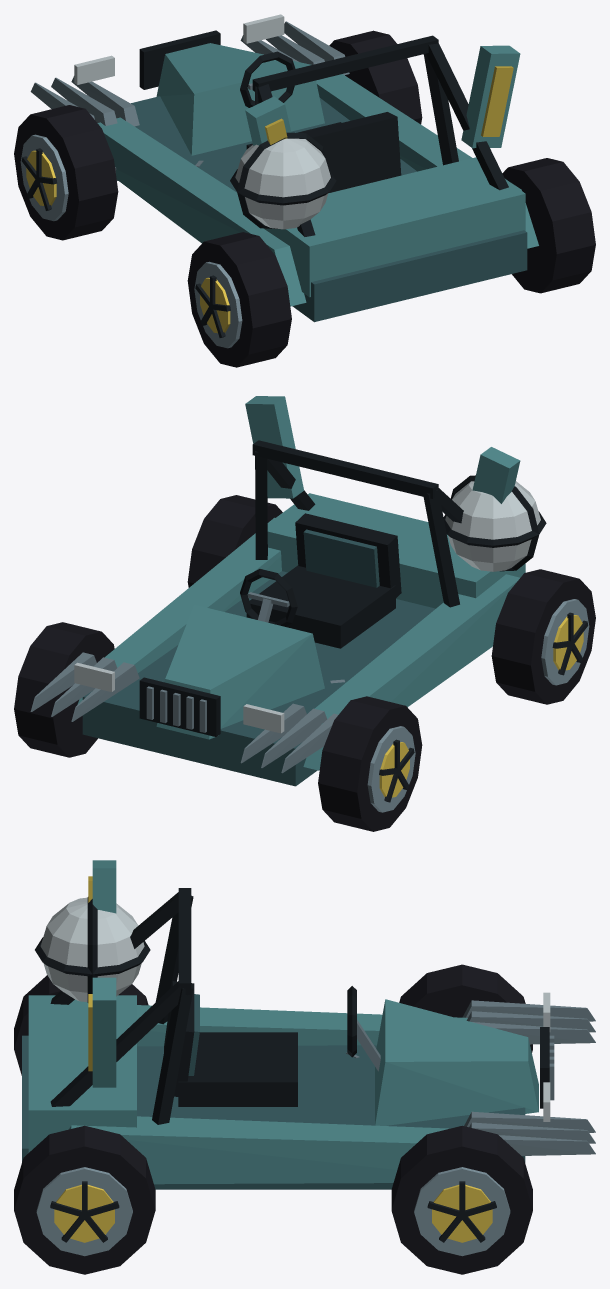
File: kart.glb
The picture shows the model from 3 angles, top to bottom: view 1: azimuth 30°, elevation 25°; view 2: azimuth 150°, elevation 25°; view 3: azimuth 270°, elevation 25°; orthographic projection. The views are drawn at different scales.
Visible parts, largest first — view 1: identity-buggy-buggy-offroad-frame, wheel-front-left, wheel-rear-left, wheel-rear-right, identity-buggy-motif-ball, identity-buggy-driver-cockpit, identity-buggy-motif-ears, identity-buggy-motif-claws, wheel-front-right; view 2: identity-buggy-buggy-offroad-frame, identity-buggy-driver-cockpit, wheel-rear-left, wheel-front-left, wheel-front-right, identity-buggy-motif-ball, identity-buggy-motif-claws, identity-buggy-motif-ears, wheel-rear-right; view 3: identity-buggy-buggy-offroad-frame, wheel-front-right, wheel-rear-right, identity-buggy-driver-cockpit, identity-buggy-motif-claws, identity-buggy-motif-ball, identity-buggy-motif-ears, wheel-front-left, wheel-rear-left.
Part boxes in pixels (x1,y1,x2,y2): identity-buggy-buggy-offroad-frame: (74, 14, 538, 322); wheel-front-left: (14, 105, 118, 240); wheel-rear-left: (187, 232, 291, 367); wheel-rear-right: (502, 158, 595, 293); identity-buggy-motif-ball: (230, 132, 336, 229); identity-buggy-driver-cockpit: (240, 51, 401, 193); identity-buggy-motif-ears: (245, 45, 520, 148); identity-buggy-motif-claws: (30, 21, 349, 126); wheel-front-right: (329, 30, 422, 124); identity-buggy-buggy-offroad-frame: (74, 440, 525, 786); identity-buggy-driver-cockpit: (240, 513, 401, 648); wheel-rear-left: (491, 569, 595, 704); wheel-front-left: (318, 696, 422, 831); wheel-front-right: (14, 622, 114, 757); identity-buggy-motif-ball: (443, 475, 546, 571); identity-buggy-motif-claws: (30, 652, 338, 773); identity-buggy-motif-ears: (245, 396, 520, 503); wheel-rear-right: (187, 495, 282, 587); identity-buggy-buggy-offroad-frame: (22, 888, 554, 1189); wheel-front-right: (391, 1125, 532, 1274); wheel-rear-right: (14, 1125, 155, 1274); identity-buggy-driver-cockpit: (164, 981, 380, 1106); identity-buggy-motif-claws: (462, 1000, 595, 1155); identity-buggy-motif-ball: (35, 897, 150, 1002); identity-buggy-motif-ears: (88, 860, 116, 1087); wheel-front-left: (399, 964, 532, 1052); wheel-rear-left: (14, 975, 148, 1075).
Bounding box in the file's own units: 2.31 × 1.46 × 2.96.
